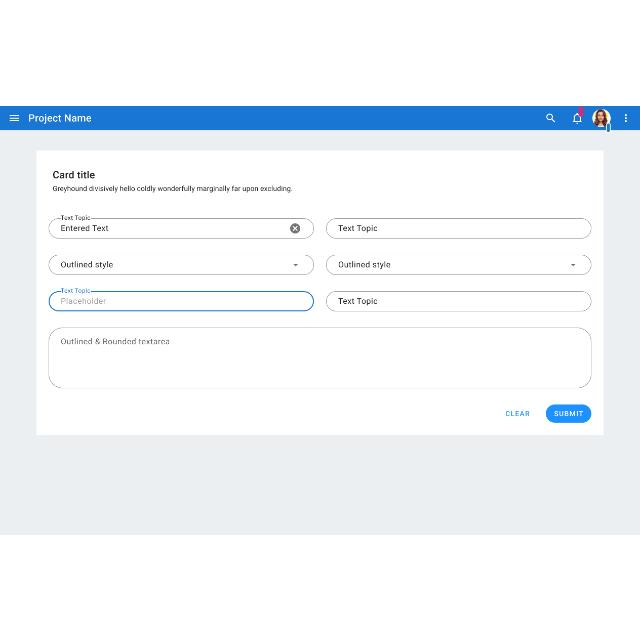QLabel: (51, 183, 292, 193), (27, 112, 92, 124), (50, 168, 96, 180), (553, 409, 583, 417), (504, 409, 530, 416)
VAppBar: (0, 106, 640, 130)
VBadge: (592, 108, 612, 130), (572, 107, 586, 125)
VBtn: (546, 403, 592, 423)
VCard: (38, 150, 604, 434)
VCombobox: (326, 253, 590, 275), (48, 253, 314, 274)
VIcon: (542, 110, 558, 124), (6, 111, 20, 123), (622, 112, 630, 124)
VTextField: (48, 286, 314, 314), (49, 214, 314, 238), (325, 217, 591, 239), (326, 290, 592, 312)
VTextarea: (49, 326, 592, 388)
